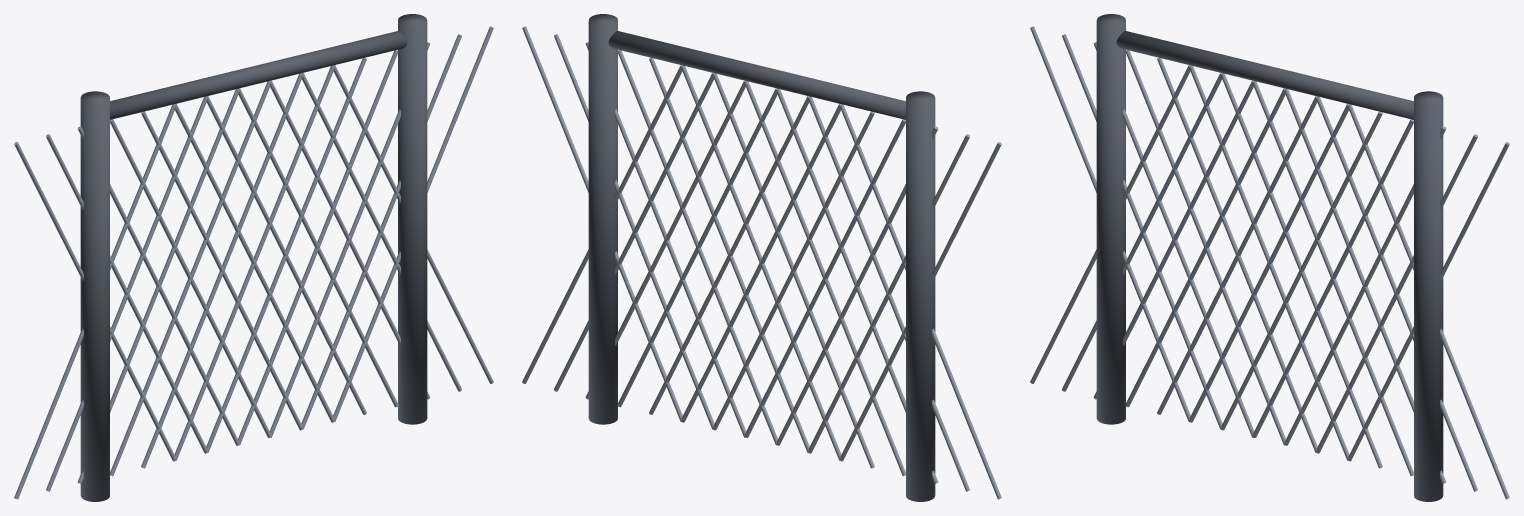
Rendered from fence.glb.
3 views of the same model, side by side, from view 1: azimuth 30°, elevation 25°; view 2: azimuth 150°, elevation 25°; view 3: azimuth 330°, elevation 25° (orthographic).
Visible parts, largest first — view 1: post, post.001, rail.001, w1.003, w1.007, w1.004, w1.006, w1.005, w1, w1.010, w2.003, w2.004 (+13 smaller); view 2: post, post.001, rail.001, w1.003, w1.007, w1.004, w1.006, w1.005, w1, w1.010, w2.003, w2.004 (+13 smaller); view 3: post.001, post, rail.001, w2.007, w2.003, w2.006, w2.004, w2.005, w2.010, w2, w1.007, w1.006 (+13 smaller).
Boxes of the visible parts, box(x1,y1,x2,y2) form: post: box(80, 91, 109, 501); post.001: box(398, 14, 427, 424); rail.001: box(110, 31, 407, 119); w1.003: box(110, 81, 270, 476); w1.007: box(238, 50, 398, 445); w1.004: box(141, 73, 302, 468); w1.006: box(206, 58, 366, 452); w1.005: box(174, 65, 334, 460); w1: box(14, 104, 175, 499); w1.010: box(333, 26, 493, 421); w2.003: box(110, 119, 270, 437); w2.004: box(141, 111, 302, 430); post: box(906, 91, 935, 501); post.001: box(588, 14, 617, 424); rail.001: box(608, 31, 905, 119); w1.003: box(745, 81, 905, 476); w1.007: box(617, 50, 777, 445); w1.004: box(713, 73, 874, 468); w1.006: box(649, 58, 809, 452); w1.005: box(681, 65, 841, 460); w1: box(840, 104, 1001, 499); w1.010: box(522, 26, 682, 421); w2.003: box(745, 119, 905, 437); w2.004: box(713, 111, 874, 430); post.001: box(1414, 91, 1443, 501); post: box(1096, 14, 1125, 424); rail.001: box(1116, 31, 1413, 119); w2.007: box(1253, 81, 1413, 476); w2.003: box(1125, 50, 1285, 445); w2.006: box(1221, 73, 1382, 468); w2.004: box(1157, 58, 1317, 452); w2.005: box(1189, 65, 1349, 460); w2.010: box(1348, 104, 1509, 499); w2: box(1030, 26, 1190, 421); w1.007: box(1253, 119, 1413, 437); w1.006: box(1221, 111, 1382, 430).
Size of the model in its own units: 1.51 by 1.2 by 0.08.
